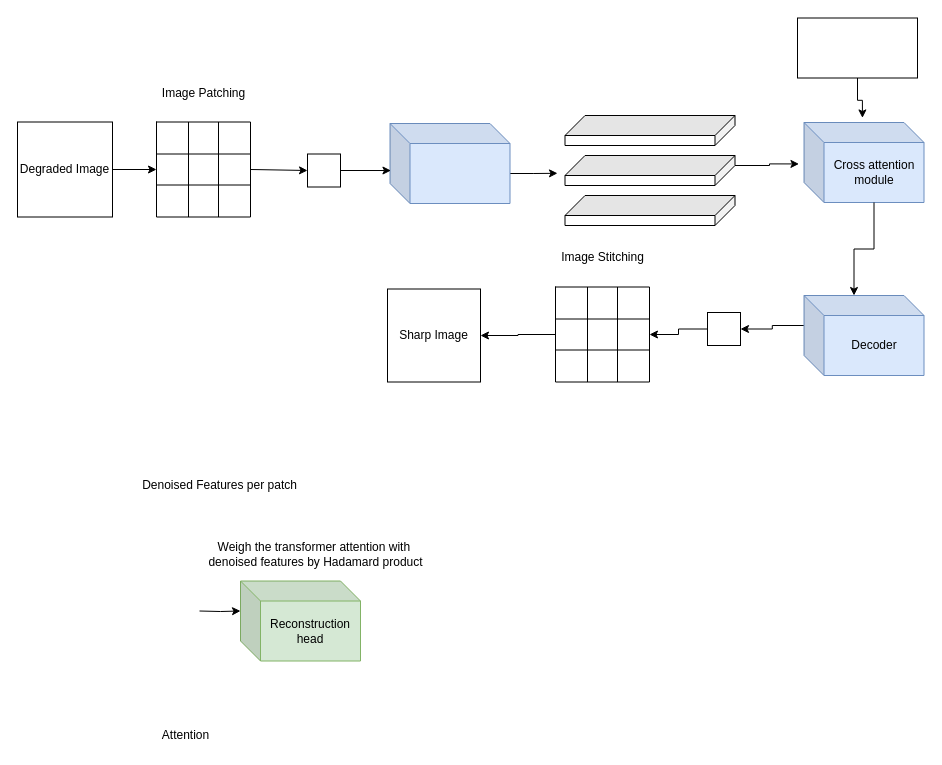
Image size: 942x765. Some labels were removed from this diagram. The shapes that lost their labels are listed below. From the top down, each one's centre as x and y in pixels, then its label:
At point (857, 47): "Hints".
At point (449, 163): "Encoder".
